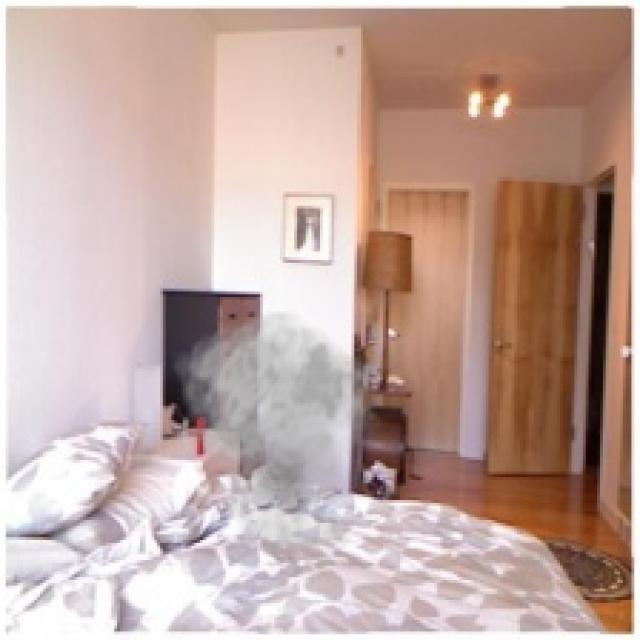Smoke: (172, 308, 388, 574)
